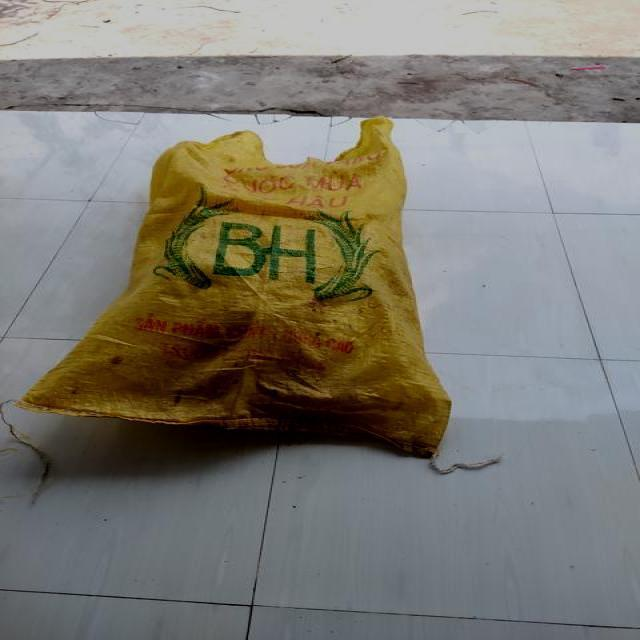gunny_bag: (24, 137, 455, 456)
